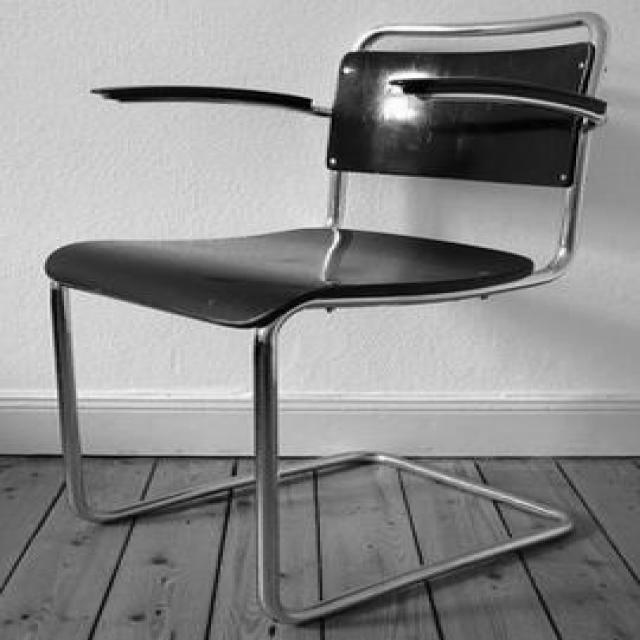chair: (50, 8, 612, 629)
